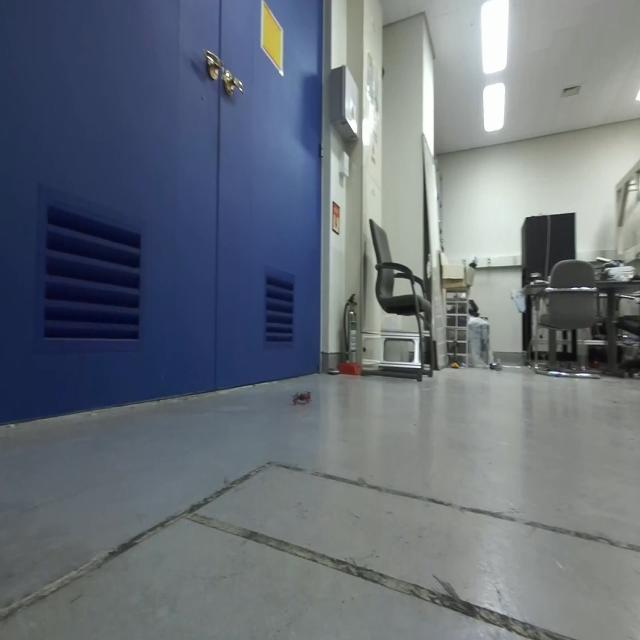crazyflie: (289, 387, 315, 415)
